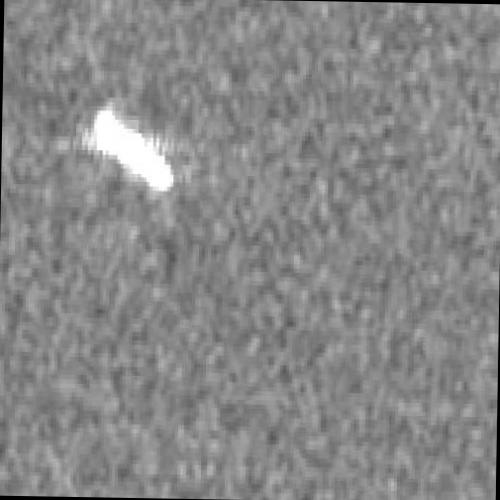ship: (88, 104, 174, 194)
